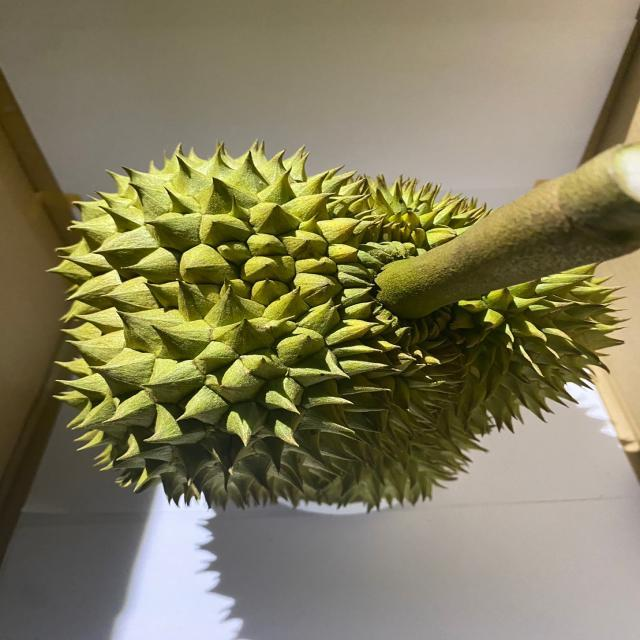immature: (44, 141, 629, 521)
